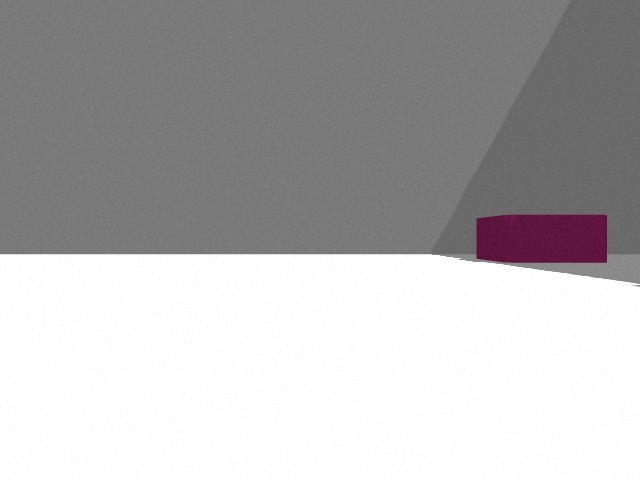red_drop_zone: (476, 215, 607, 263)
